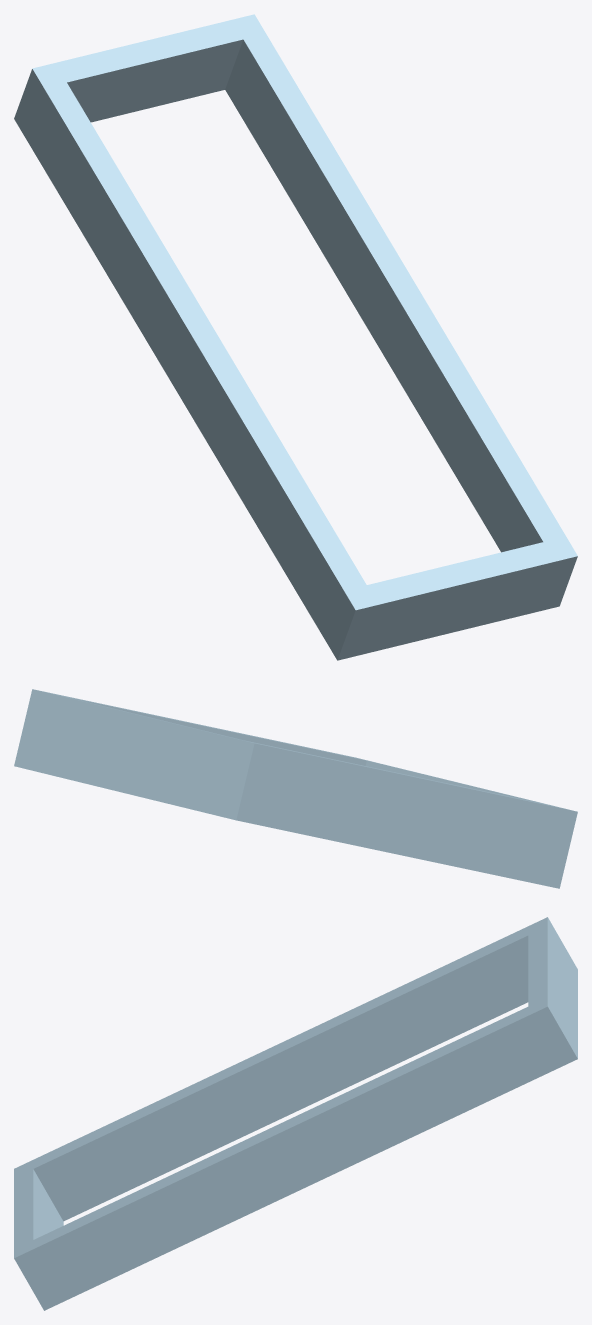
The model's file is ElevatorStage1.glb.
3 renders of one model, top to bottom at view 1: azimuth 30°, elevation 25°; view 2: azimuth 150°, elevation 25°; view 3: azimuth 270°, elevation 25°, orthographic. The views are drawn at different scales.
Parts seen in each view (by area): view 1: Part 6; view 2: Part 6; view 3: Part 6.
Boxes of the visible parts, x1,y1,x2,y2 form: Part 6: (14, 14, 577, 660); Part 6: (14, 689, 577, 888); Part 6: (14, 917, 577, 1310).
Size of the model in its own units: 0.2468 by 0.3913 by 0.657.
